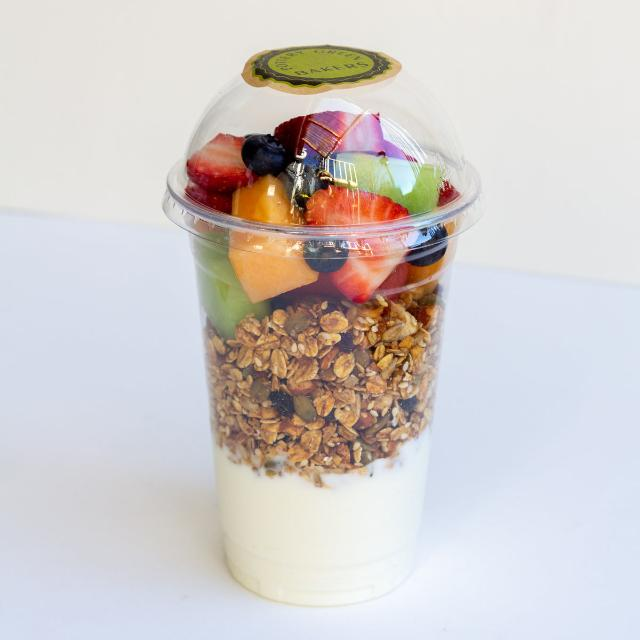yogurt: (162, 45, 482, 607)
